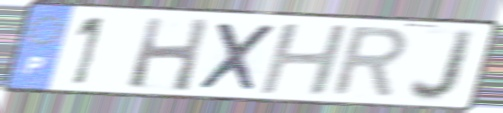1: (70, 15, 108, 87)
H: (255, 23, 354, 97), (124, 15, 213, 94)
J: (406, 26, 480, 104)
R: (325, 24, 412, 101)
X: (194, 19, 279, 94)
